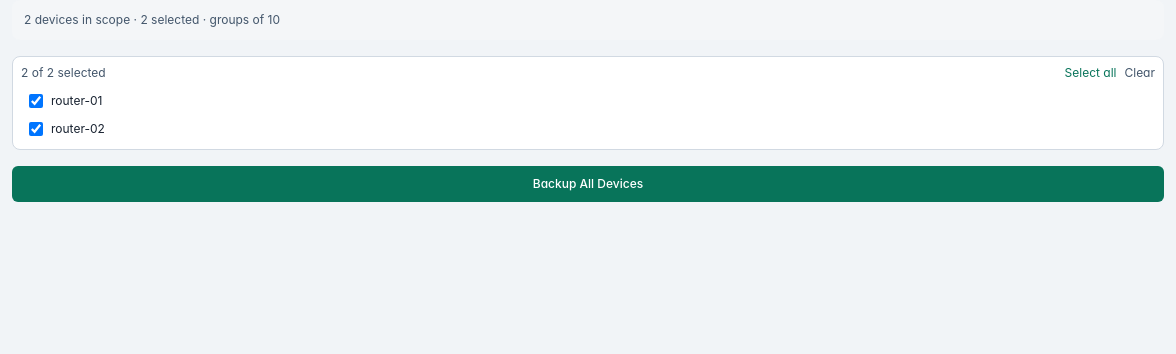
BulkBackupPanel — uses persistent backend bulk runs › shows persistent run file and byte totals
Click the button "Backup All Devices": (588, 184) [12,166,1164,202]
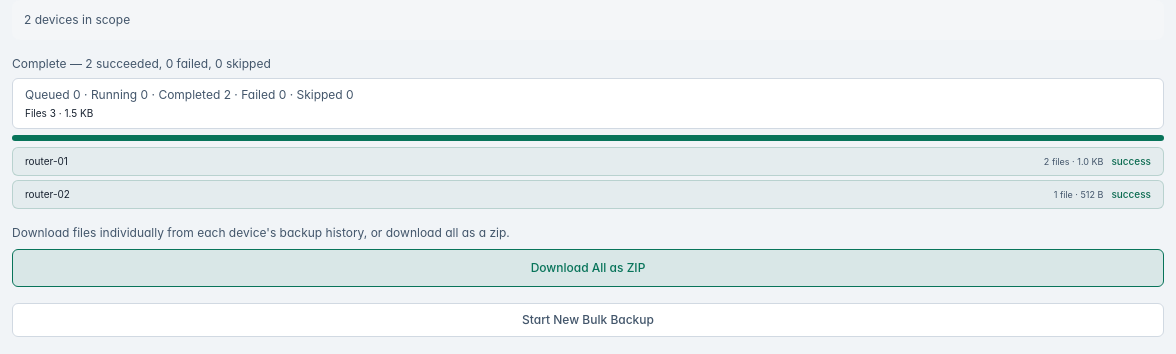
Expected: the text "Files 3 · 1.5 KB" is shown, [25,107,93,119]
Expected: the text "2 files · 1.0 KB" is shown, [1044,155,1103,169]
Expected: the text "1 file · 512 B" is shown, [1054,188,1103,202]
